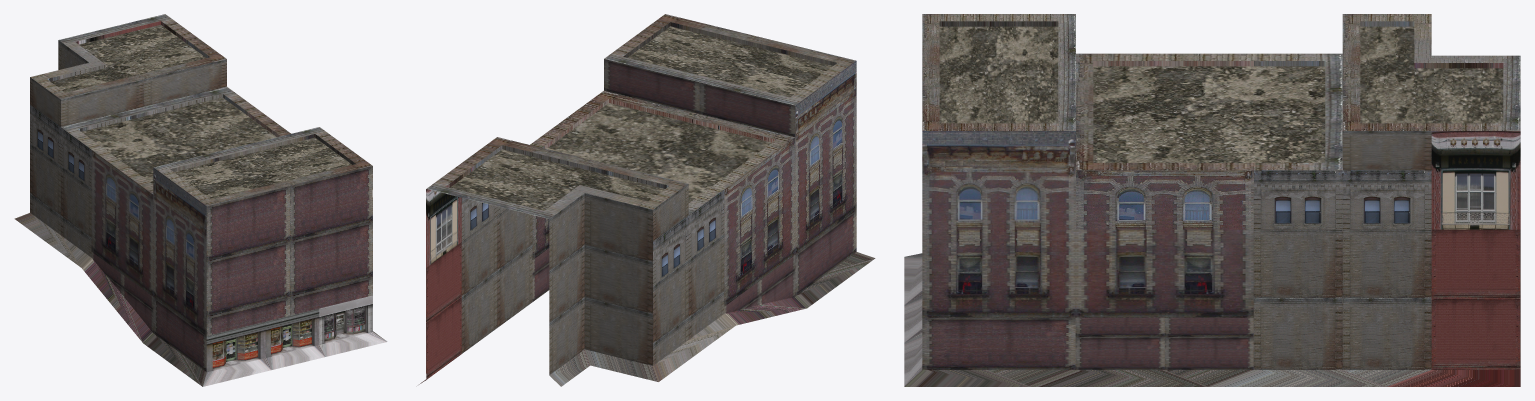
Rendered from chbackbit8_sfe.obj.
3 renders of one model, left to right at view 1: azimuth 30°, elevation 25°; view 2: azimuth 150°, elevation 25°; view 3: azimuth 270°, elevation 25°, orthographic. The views are drawn at different scales.
Visible parts, largest first — view 1: chbackbit8_sfe; view 2: chbackbit8_sfe; view 3: chbackbit8_sfe.
Part boxes in pixels (box(x1,y1,x2,y2)): chbackbit8_sfe: box(14, 14, 387, 386); chbackbit8_sfe: box(419, 14, 875, 386); chbackbit8_sfe: box(904, 14, 1520, 386).
Size of the model in its own units: 28.47 by 25.51 by 56.99.
Materials: 12 (12 with a texture image).
